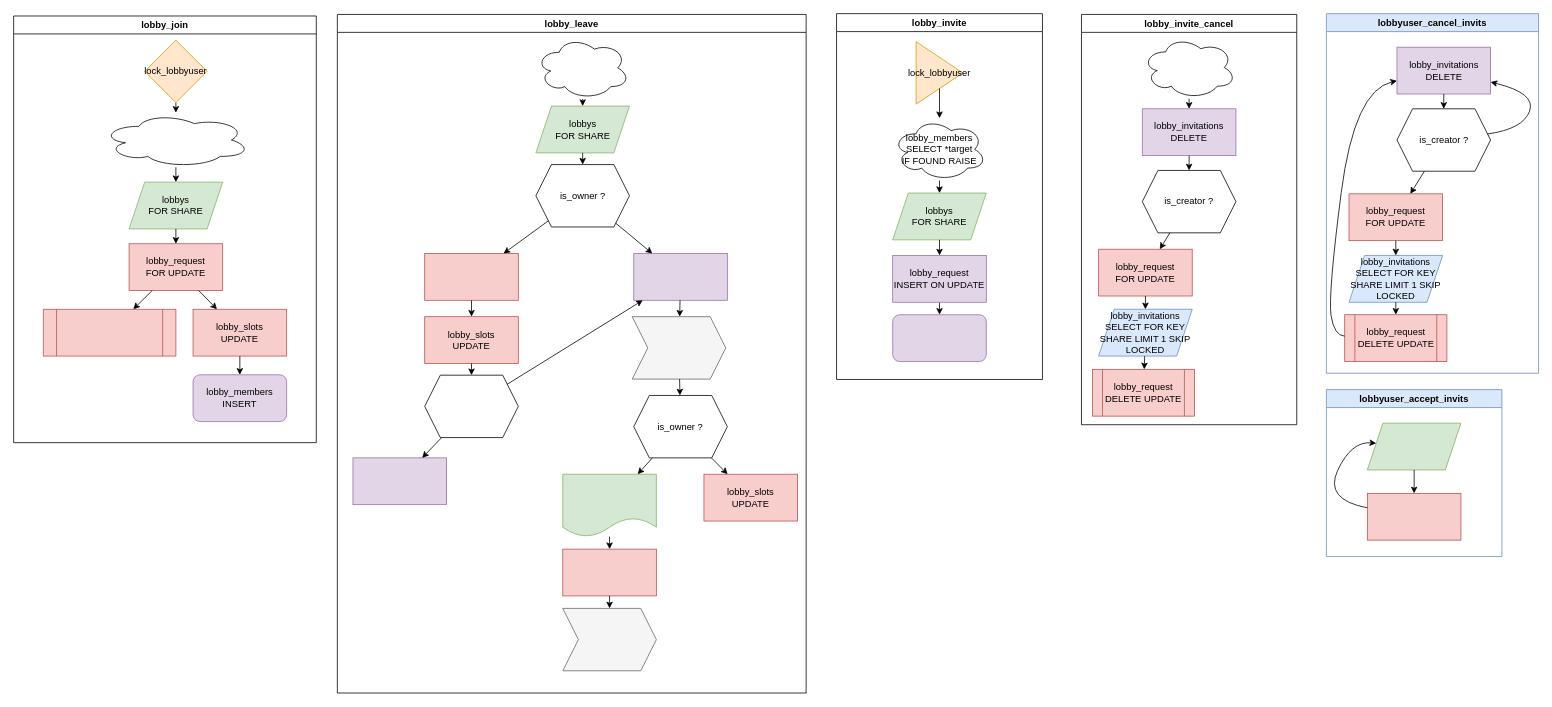
This 1552x707 diagram has some shape labels left out. Each missing label, with the centre of its shape:
"lobby_invitation FOR SHARE" belongs at [1414,446].
"lobby_invitations INSERT" belongs at [939,338].
"lobby_members DELETE" belongs at [680,276].
"lobby_members LIMIT 1 FOR SHARE *new_owner" belongs at [609,505].
"lobby_members SELECT *viewer IF FOUND RAISE" belongs at [175,139].
"lobby_members SELECT id_lobby" belongs at [1189,67].
"lobby_members SELECT id_lobby IF NOT FOUND RAISE" belongs at [582,67].
"lobby_request INSERT UPDATE DELETE" belongs at [109,332].
"lobby_request UPDATE" belongs at [1414,516].
"lobbys DELETE" belongs at [399,481].
"lobbys FOR UPDATE" belongs at [471,276].
"lobbys UPDATE" belongs at [609,572].
"lobbyuser_accept_invits(new_owner)" belongs at [609,639].
"lobbyuser_cancel_invits()" belongs at [678,347].
"slots = 0 ?" belongs at [471,406].
